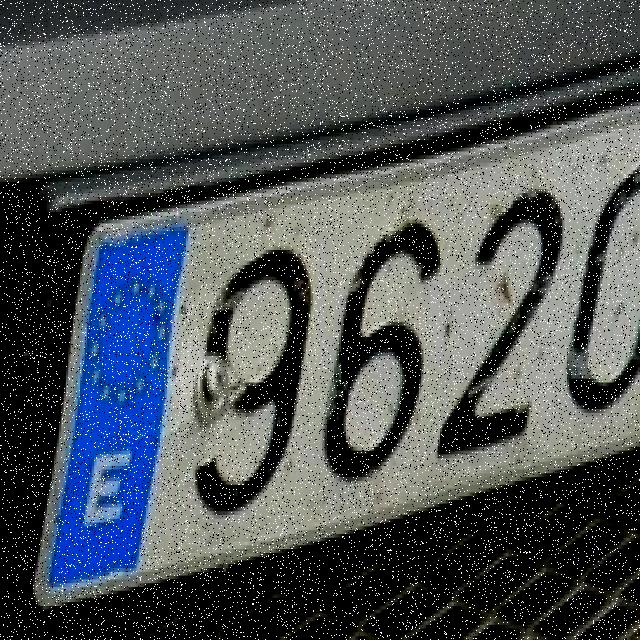licenseplate: (7, 130, 640, 628)
